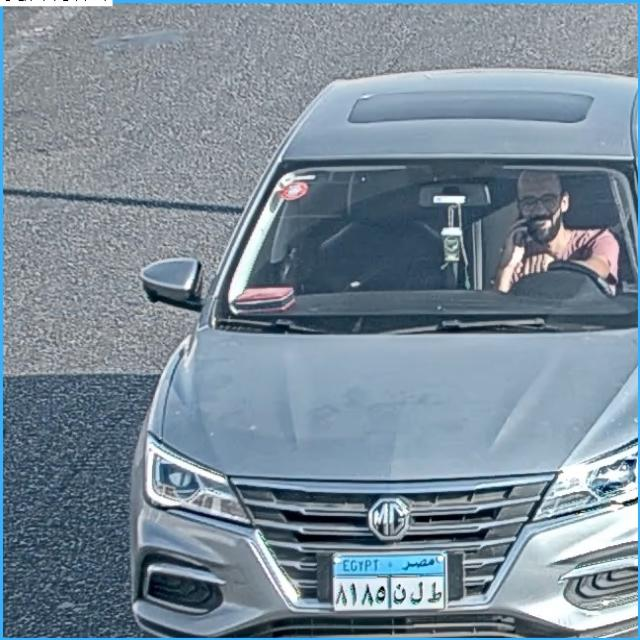windshield: (216, 166, 638, 321)
